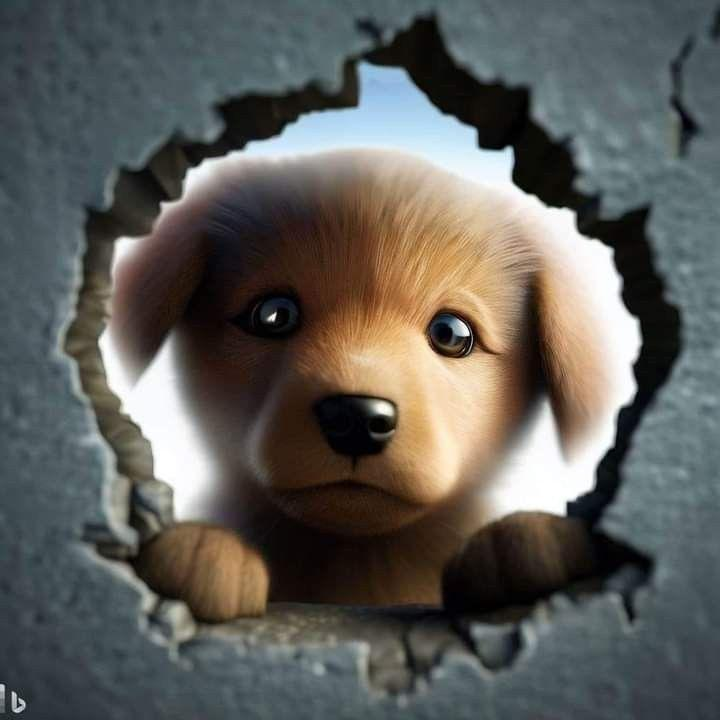puppy-dog: (106, 149, 624, 625)
